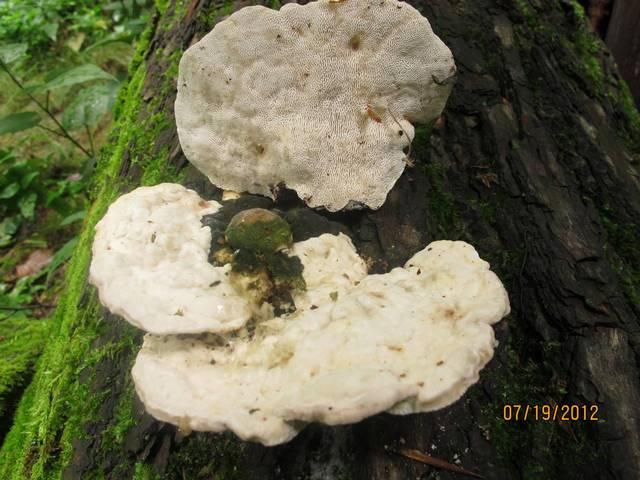poisonous_mushroom: (94, 175, 505, 428), (172, 0, 458, 213)
